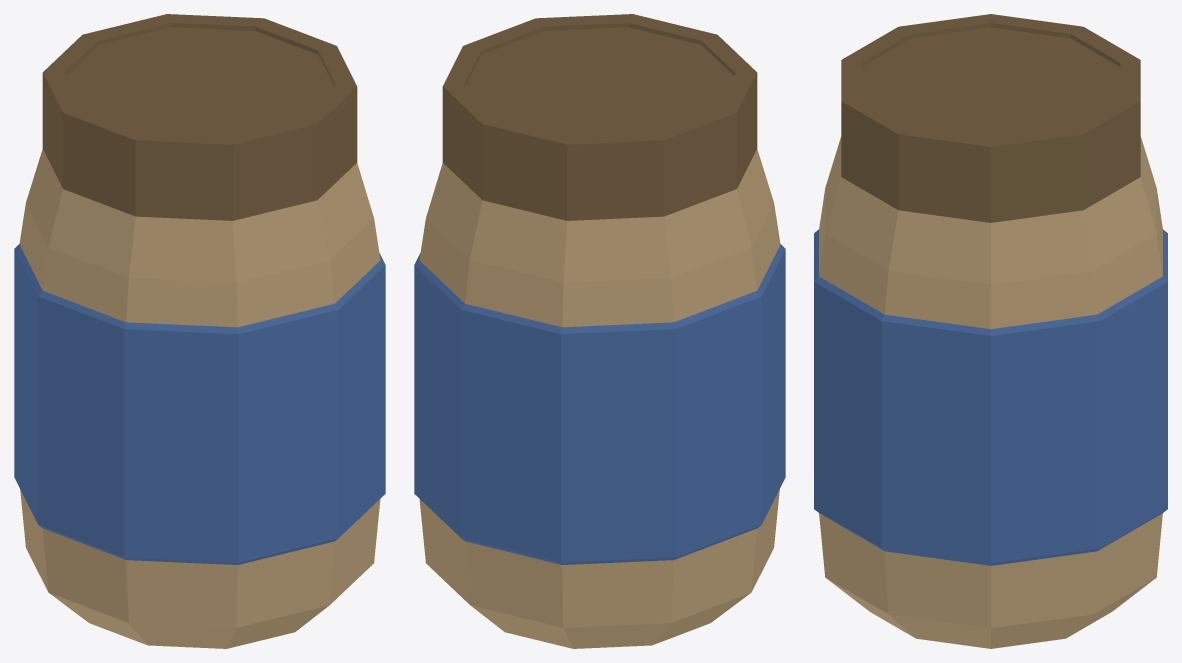
The model's file is PeanutButter_2.glb.
3 views of the same model, side by side, from view 1: azimuth 30°, elevation 25°; view 2: azimuth 150°, elevation 25°; view 3: azimuth 270°, elevation 25° (orthographic).
Parts seen in each view (by area): view 1: PeanutButter_2; view 2: PeanutButter_2; view 3: PeanutButter_2.
Boxes of the visible parts, x1,y1,x2,y2 form: PeanutButter_2: (14,14,385,648); PeanutButter_2: (414,14,785,648); PeanutButter_2: (814,14,1167,648).
Bounding box in the file's own units: 0.4746 × 0.7243 × 0.4514.
